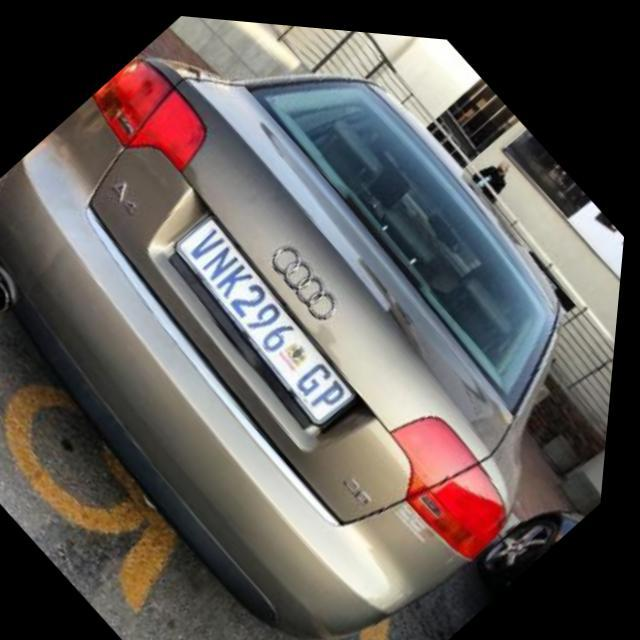license_plate: (156, 205, 385, 426)
